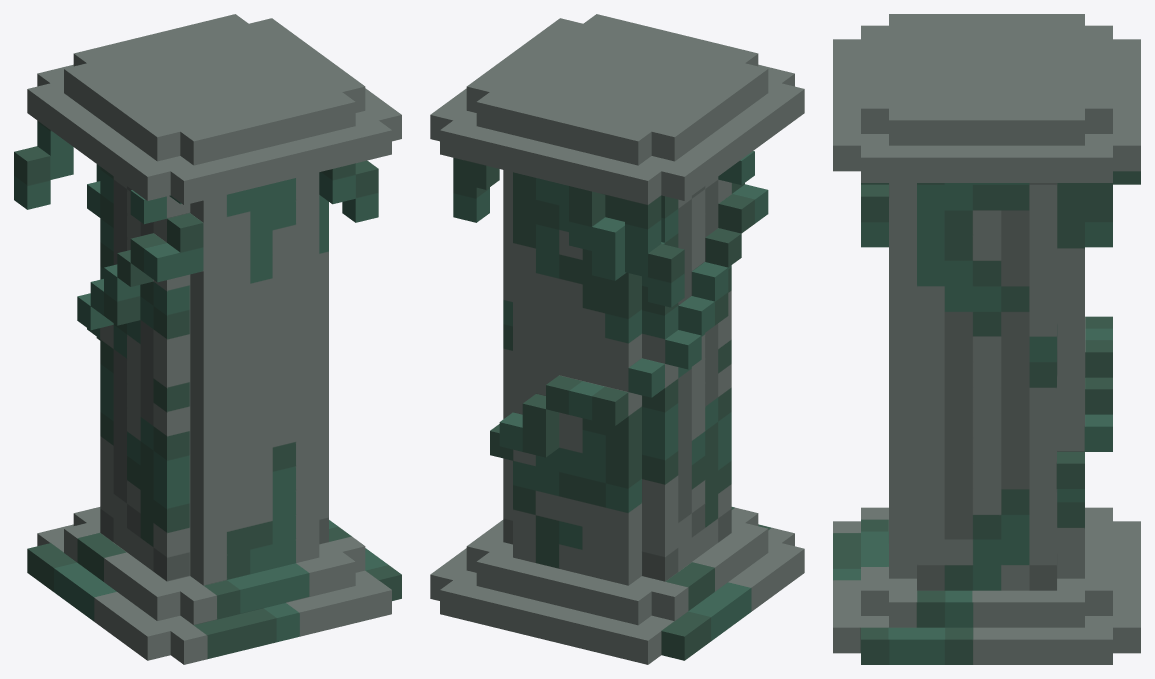
File: entrance pillar.fbx
The picture shows the model from 3 angles, left to right: view 1: azimuth 30°, elevation 25°; view 2: azimuth 150°, elevation 25°; view 3: azimuth 270°, elevation 25°; orthographic projection. The views are drawn at different scales.
Parts seen in each view (by area): view 1: entrance gate pillar; view 2: entrance gate pillar; view 3: entrance gate pillar.
Part boxes in pixels (x1,y1,x2,y2): entrance gate pillar: [14, 14, 401, 664]; entrance gate pillar: [430, 14, 804, 664]; entrance gate pillar: [833, 14, 1140, 664].
Size of the model in its own units: 6.22 by 11.87 by 6.22.
